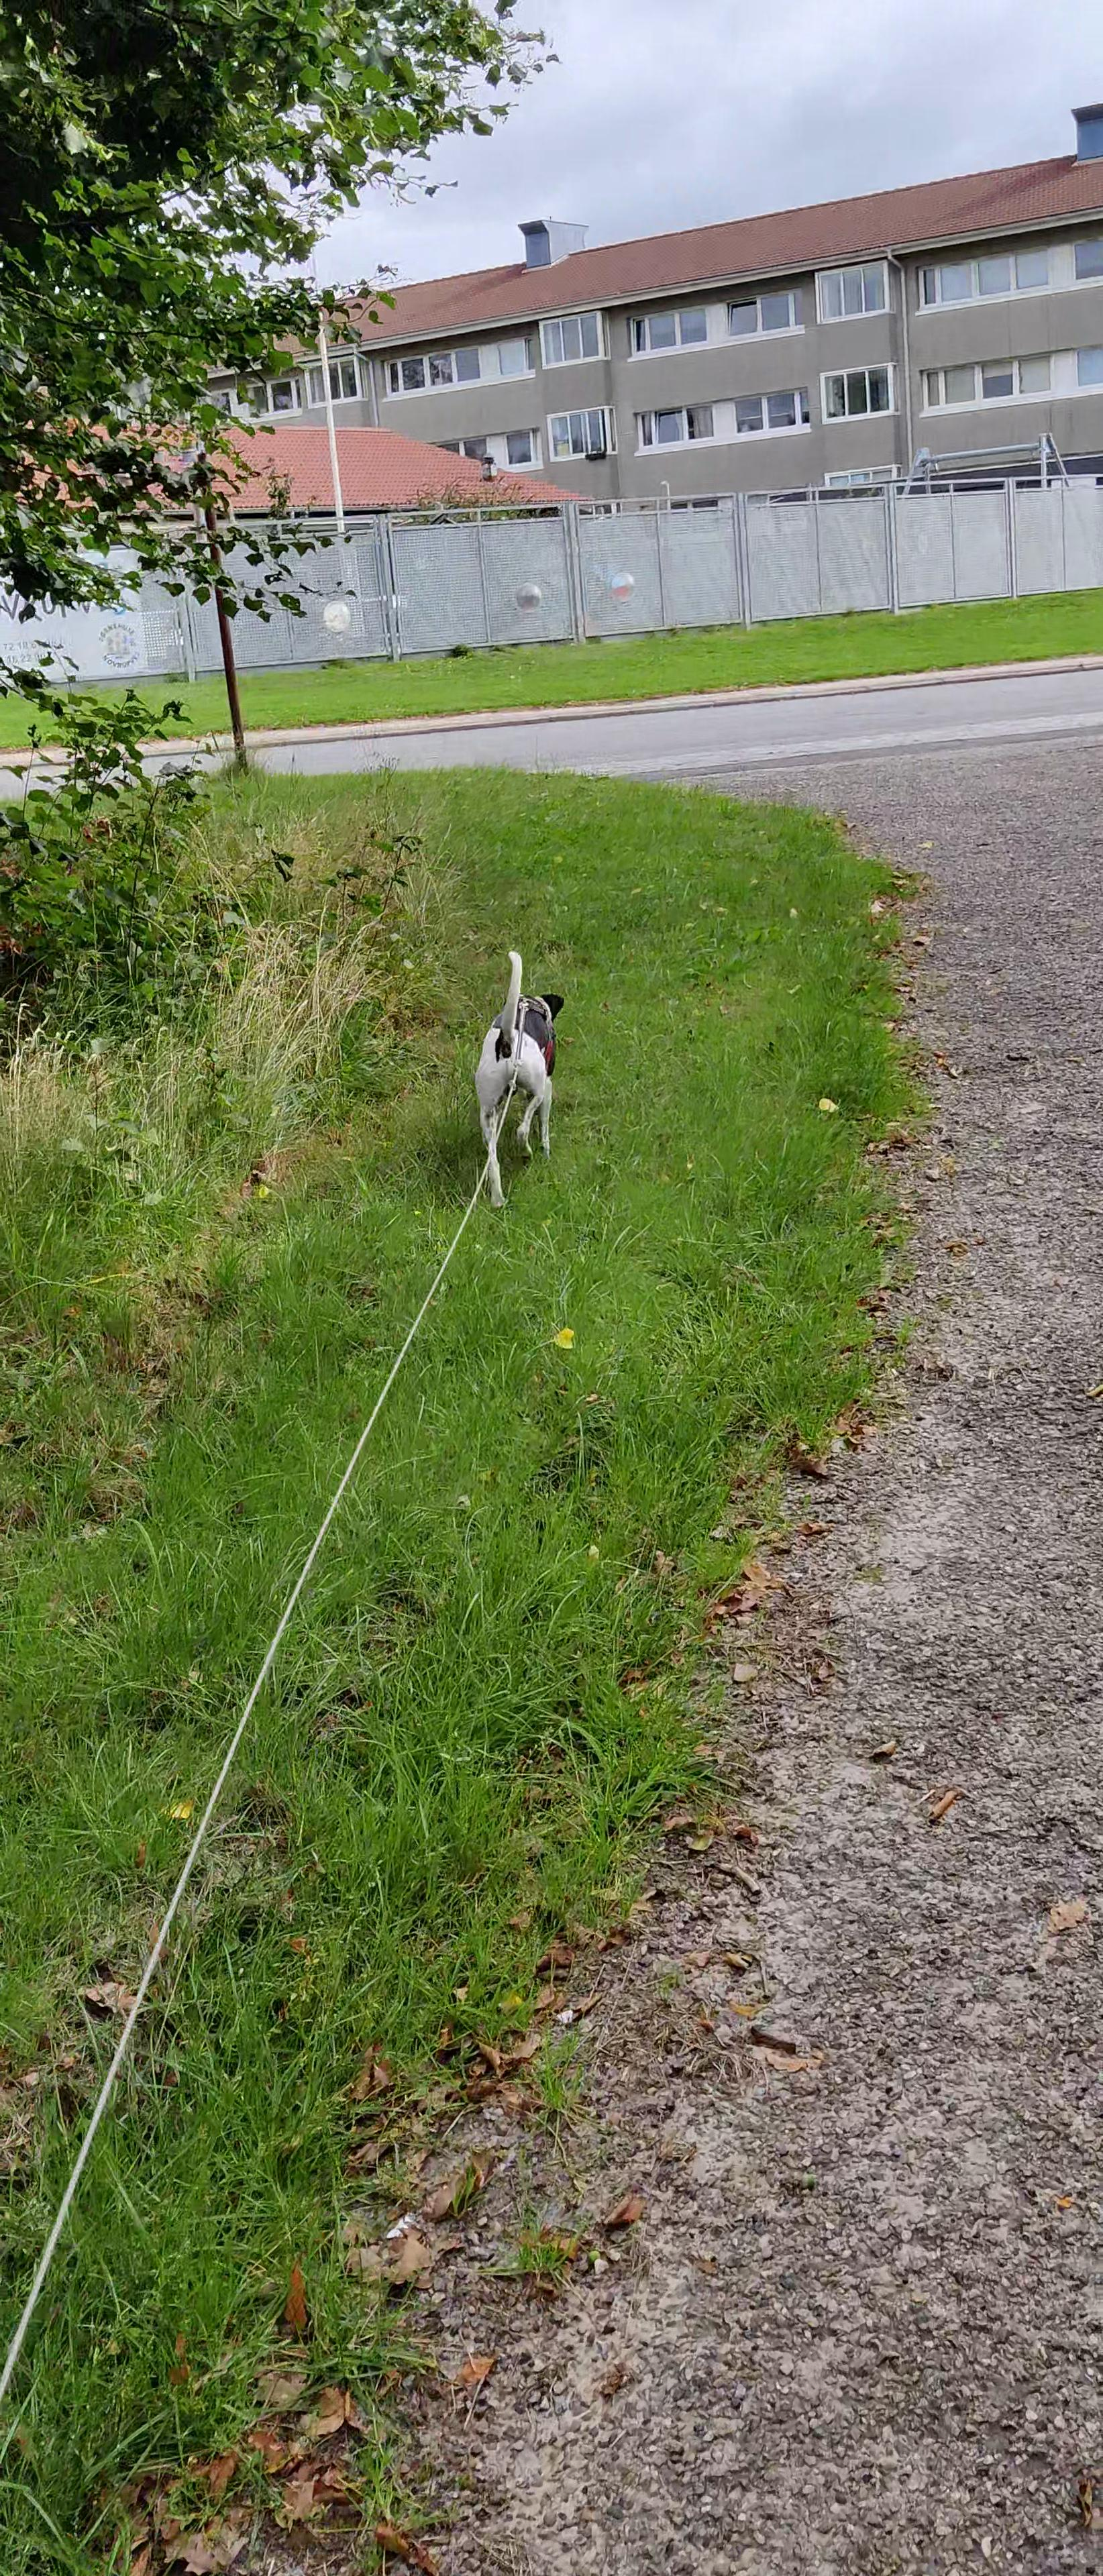Dog: (464, 940, 569, 1214)
